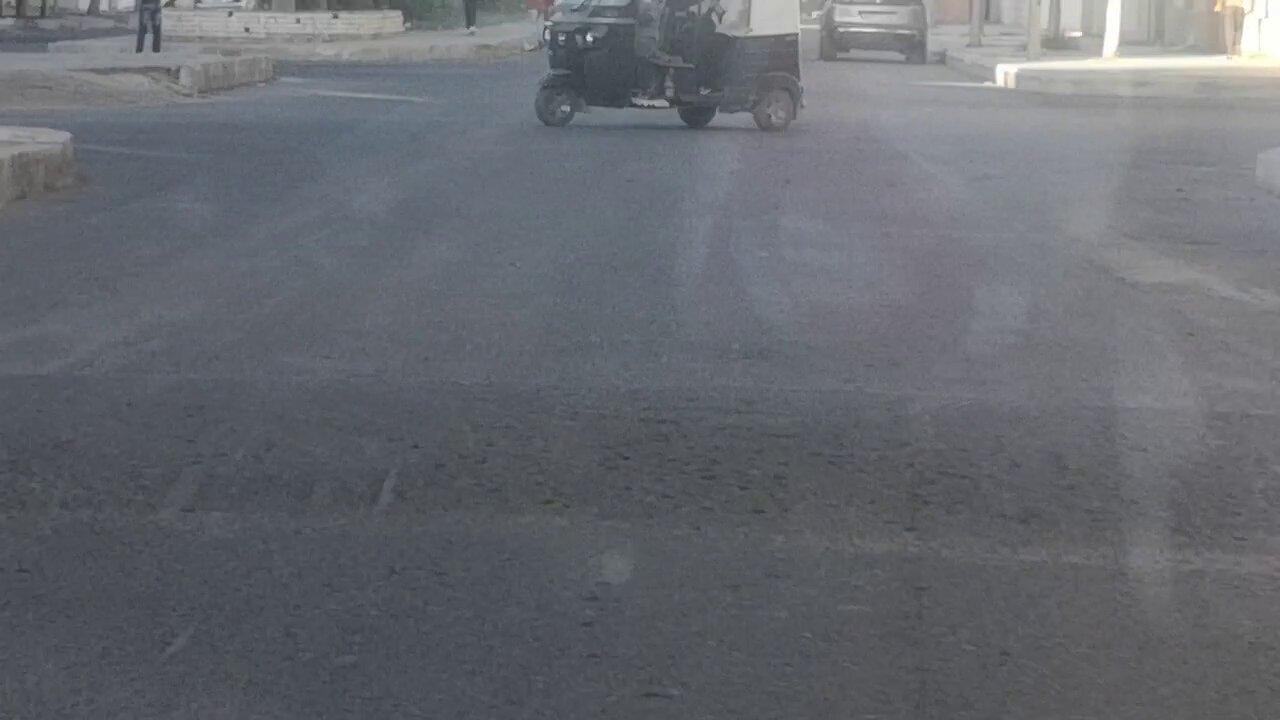Bump: (17, 355, 1280, 533)
